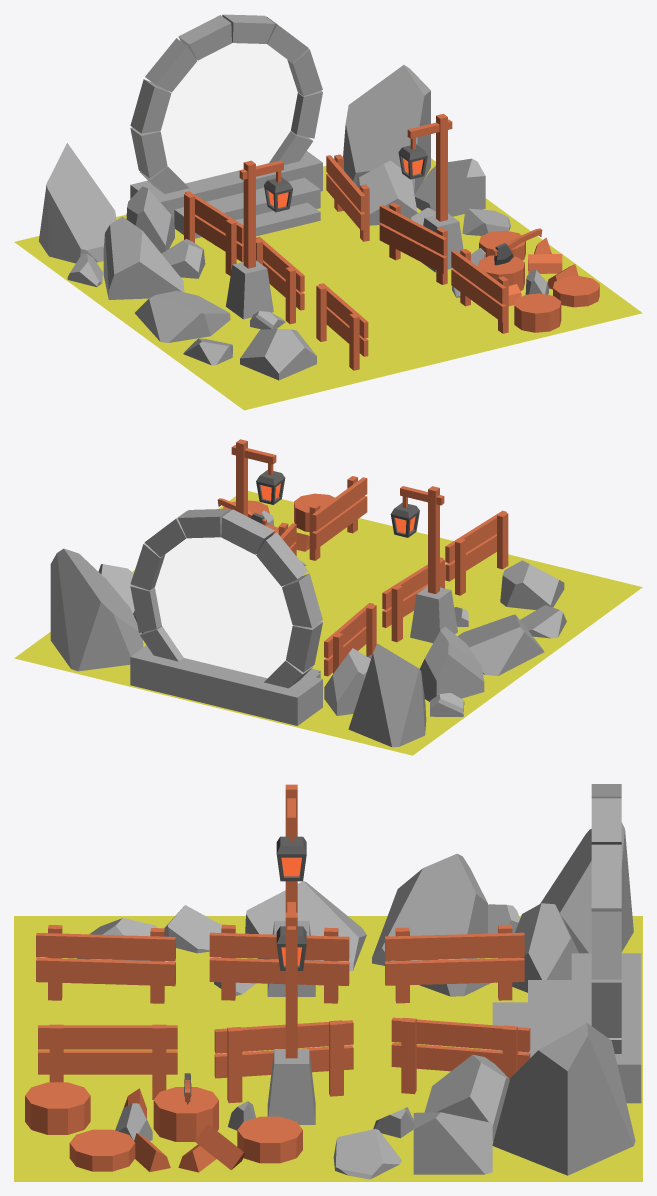
Rendered from portal-original.glb.
3 renders of one model, top to bottom at view 1: azimuth 30°, elevation 25°; view 2: azimuth 150°, elevation 25°; view 3: azimuth 270°, elevation 25°, orthographic. The views are drawn at different scales.
Visible parts, largest first — view 1: Plane, Circle, Cube.020, Cube.021, Cube.022, Cube.027, Cube.016, Cube.004, Cube.026, Cube, Cube.047, Cube.024 (+32 smaller); view 2: Plane, Circle, Cube.020, Cube.016, Cube.021, Cube.022, Cube.027, Cube.003, Cube, Cube.026, Cube.047, Cube.005 (+20 smaller); view 3: Plane, Cube.020, Cube.047, Cube.003, Cube, Cube.002, Cube.001, Cube.004, Cube.022, Cube.016, Cube.024, Cube.021 (+29 smaller).
Part boxes in pixels (left/top/right/bottom): Plane: left=14, top=158, right=642, bottom=410; Circle: left=160, top=43, right=297, bottom=183; Cube.020: left=343, top=65, right=430, bottom=194; Cube.021: left=39, top=143, right=116, bottom=263; Cube.022: left=103, top=216, right=184, bottom=299; Cube.027: left=135, top=290, right=230, bottom=342; Cube.016: left=130, top=151, right=322, bottom=223; Cube.004: left=379, top=203, right=447, bottom=284; Cube.026: left=240, top=329, right=316, bottom=380; Cube: left=451, top=249, right=508, bottom=333; Cube.047: left=184, top=191, right=243, bottom=275; Cube.024: left=414, top=158, right=485, bottom=216; Plane: left=14, top=491, right=642, bottom=755; Circle: left=155, top=537, right=292, bottom=678; Cube.020: left=50, top=548, right=143, bottom=671; Cube.016: left=130, top=645, right=322, bottom=725; Cube.021: left=348, top=643, right=426, bottom=747; Cube.022: left=420, top=626, right=484, bottom=701; Cube.027: left=458, top=614, right=544, bottom=675; Cube.003: left=445, top=510, right=508, bottom=595; Cube: left=309, top=476, right=367, bottom=560; Cube.026: left=500, top=560, right=564, bottom=609; Cube.047: left=324, top=603, right=376, bottom=676; Cube.005: left=410, top=586, right=457, bottom=642; Plane: left=14, top=916, right=642, bottom=1181; Cube.020: left=492, top=1023, right=635, bottom=1175; Cube.047: left=385, top=924, right=524, bottom=1003; Cube.003: left=36, top=925, right=175, bottom=1003; Cube: left=38, top=1024, right=177, bottom=1099; Cube.002: left=209, top=924, right=349, bottom=1003; Cube.001: left=391, top=1017, right=530, bottom=1094; Cube.004: left=214, top=1020, right=353, bottom=1103; Cube.022: left=372, top=853, right=487, bottom=965; Cube.016: left=571, top=953, right=641, bottom=1103; Cube.024: left=413, top=1112, right=492, bottom=1174; Cube.021: left=540, top=822, right=633, bottom=953.
Bounding box in the file's own units: 4 × 1.77 × 4.
